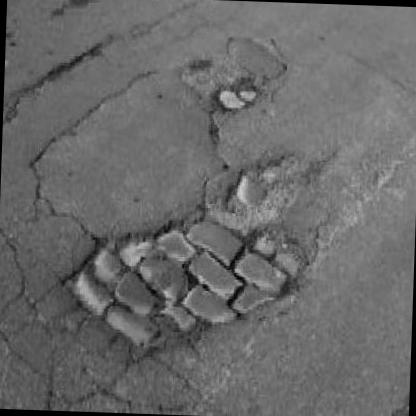pothole: (58, 209, 311, 363), (218, 148, 307, 228), (214, 75, 260, 113)
